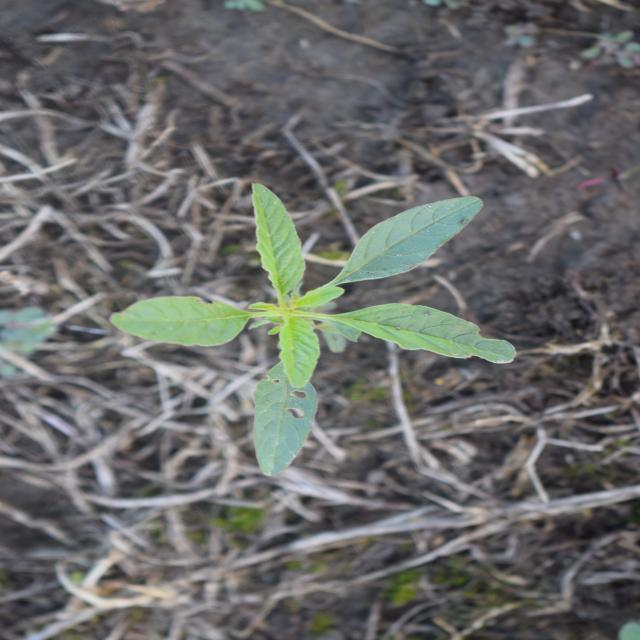Waterhemp: (106, 181, 519, 478)
